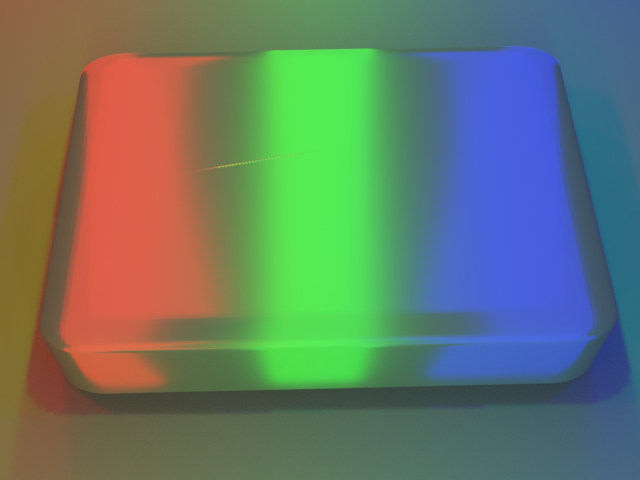scratch: (50, 44, 459, 271)
